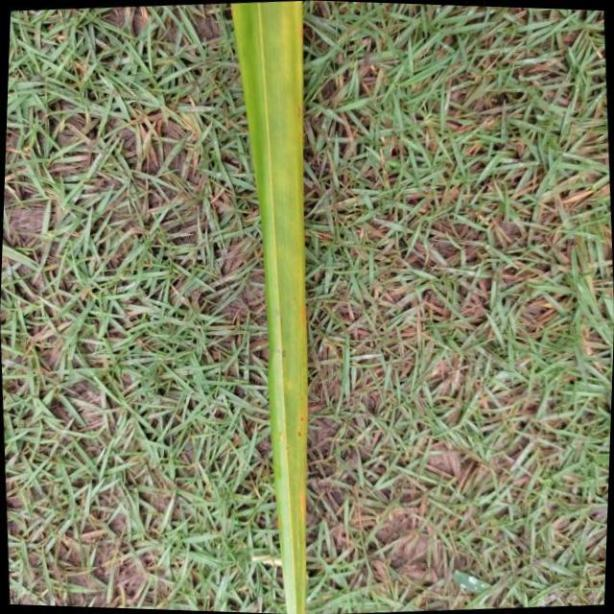nitrogen: (229, 0, 308, 614)
